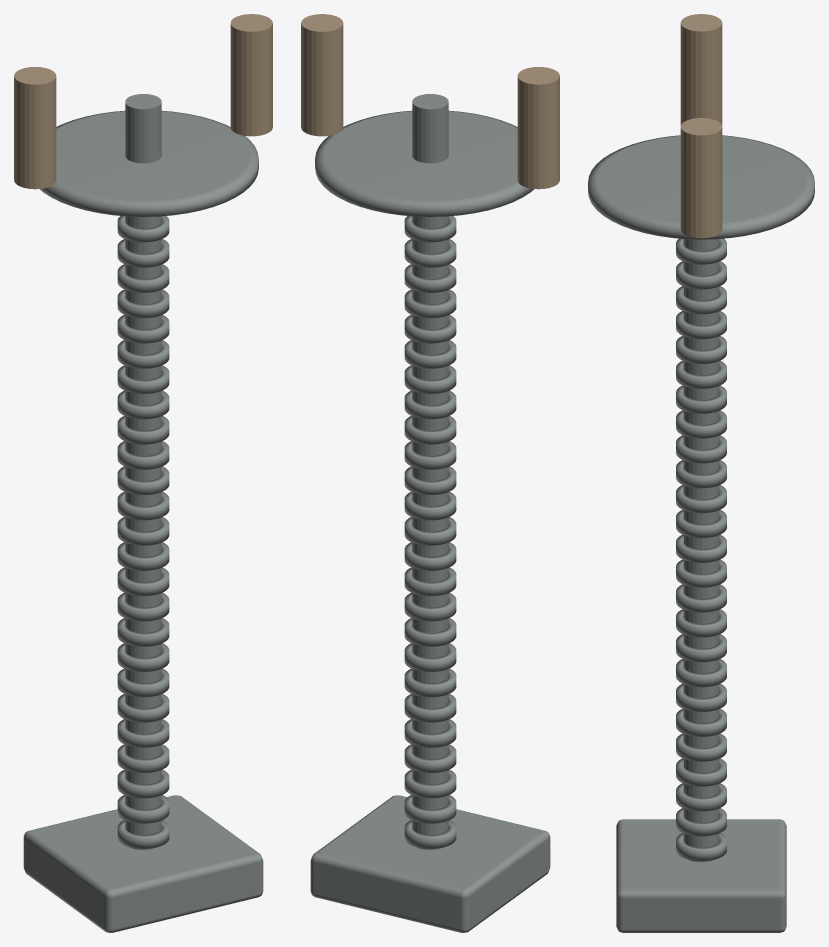
File: coastal-saltworks-and-trade-port-coastal-saltworks-and-6492694d__31371.glb
3 views of the same model, side by side, from view 1: azimuth 30°, elevation 25°; view 2: azimuth 150°, elevation 25°; view 3: azimuth 270°, elevation 25° (orthographic).
Parts seen in each view (by area): view 1: coastal-saltworks-and-trade-port-sluice-lifting-screw; view 2: coastal-saltworks-and-trade-port-sluice-lifting-screw; view 3: coastal-saltworks-and-trade-port-sluice-lifting-screw.
Boxes of the visible parts, x1=… form: coastal-saltworks-and-trade-port-sluice-lifting-screw: x1=14, y1=14, x2=272, y2=932; coastal-saltworks-and-trade-port-sluice-lifting-screw: x1=301, y1=14, x2=559, y2=932; coastal-saltworks-and-trade-port-sluice-lifting-screw: x1=588, y1=14, x2=814, y2=932.
Bounding box in the file's own units: 0.304 × 0.96 × 0.24.
